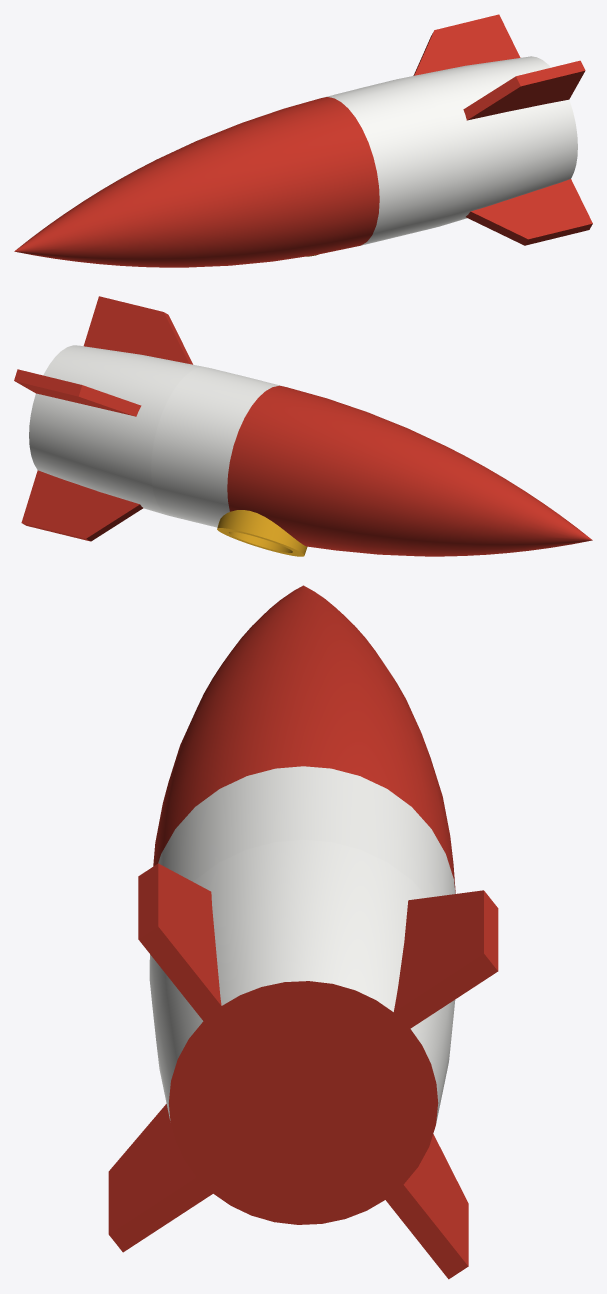
The model's file is Rocket For Unity.fbx.
The picture shows the model from 3 angles, top to bottom: view 1: azimuth 30°, elevation 25°; view 2: azimuth 150°, elevation 25°; view 3: azimuth 270°, elevation 25°; orthographic projection. The views are drawn at different scales.
Parts seen in each view (by area): view 1: Body3; view 2: Body3; view 3: Body3.
Part boxes in pixels (left/top/right/bottom): Body3: left=14, top=14, right=592, bottom=267; Body3: left=14, top=296, right=592, bottom=556; Body3: left=108, top=585, right=498, bottom=1279.
Bounding box in the file's own units: 50 × 15.9 × 15.9.
